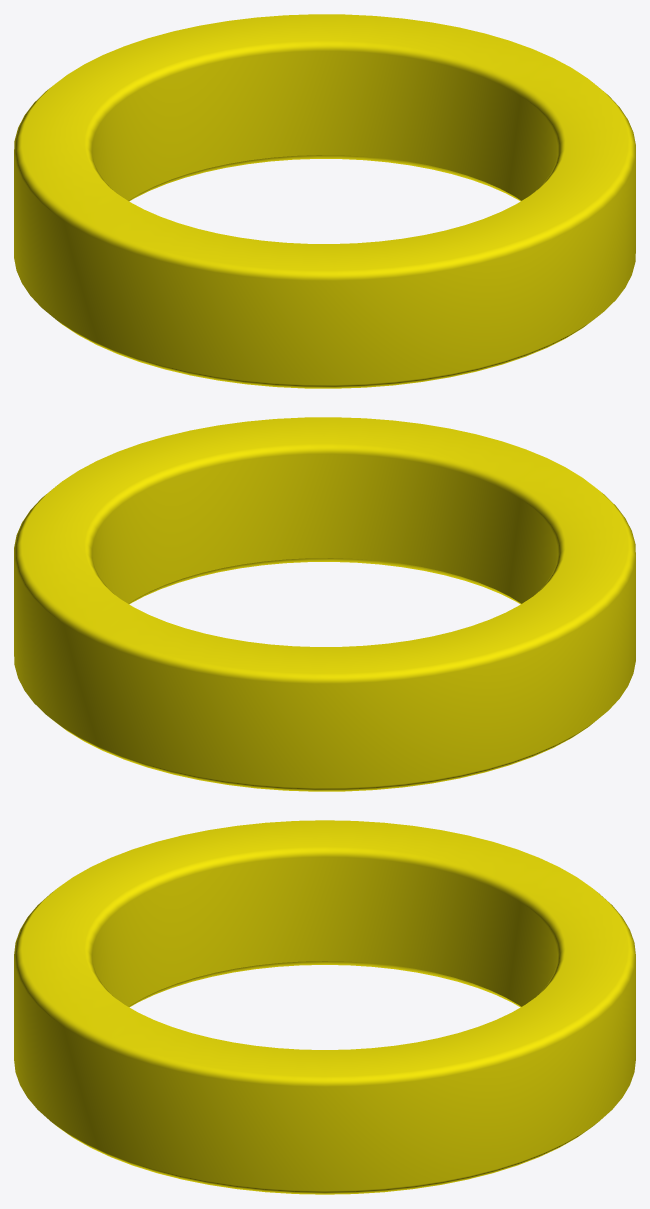
3 views of the same model, one above another, from view 1: azimuth 30°, elevation 25°; view 2: azimuth 150°, elevation 25°; view 3: azimuth 270°, elevation 25° (orthographic).
Parts seen in each view (by area): view 1: seal_body; view 2: seal_body; view 3: seal_body.
Part boxes in pixels (x1=…): seal_body: x1=14, y1=14, x2=635, y2=388; seal_body: x1=14, y1=417, x2=635, y2=791; seal_body: x1=14, y1=820, x2=635, y2=1194.
Bounding box in the file's own units: 0.0334 × 0.007 × 0.0334.
